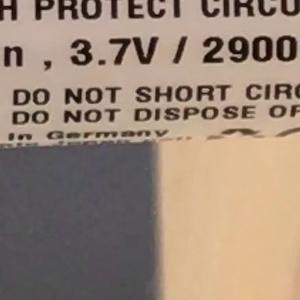3.7V: (60, 27, 168, 76)
